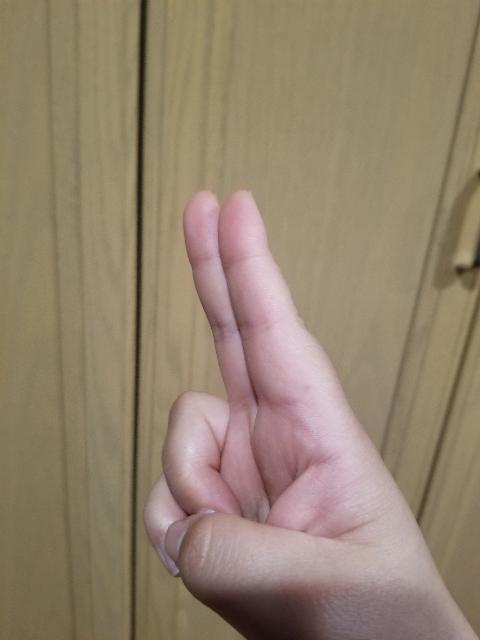U: (137, 184, 447, 640)
